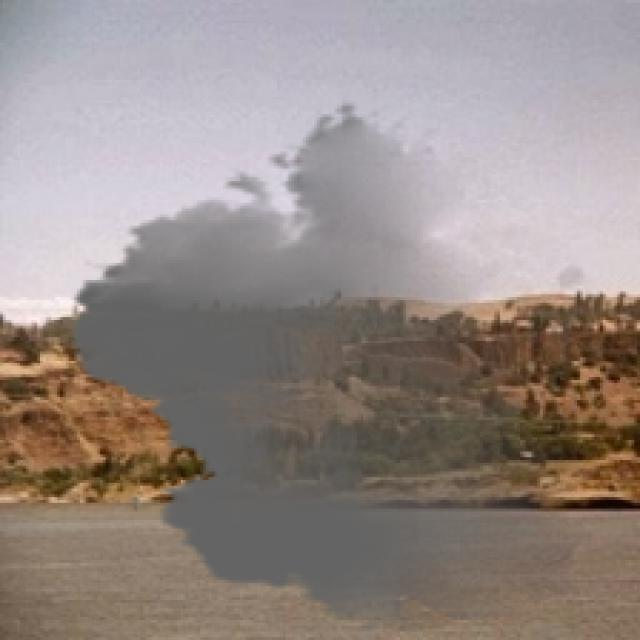Smoke: (51, 99, 612, 632)
